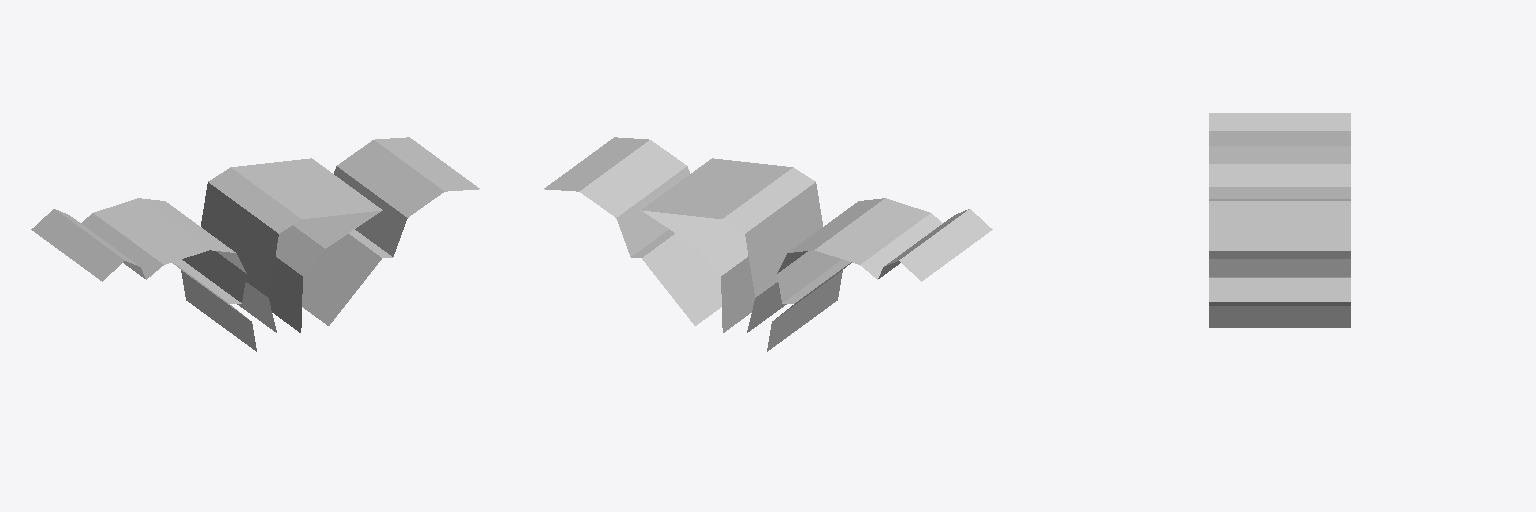
The model's file is Land2_Collider.obj.
3 views of the same model, side by side, from view 1: azimuth 30°, elevation 25°; view 2: azimuth 150°, elevation 25°; view 3: azimuth 270°, elevation 25° (orthographic).
Parts seen in each view (by area): view 1: Land2_Collider:pPlane1; view 2: Land2_Collider:pPlane1; view 3: Land2_Collider:pPlane1.
Part boxes in pixels (x1,y1,x2,y2): Land2_Collider:pPlane1: (31,137,479,351); Land2_Collider:pPlane1: (544,137,992,351); Land2_Collider:pPlane1: (1209,113,1350,327).
Bounding box in the file's own units: 6 × 1.88 × 1.96.